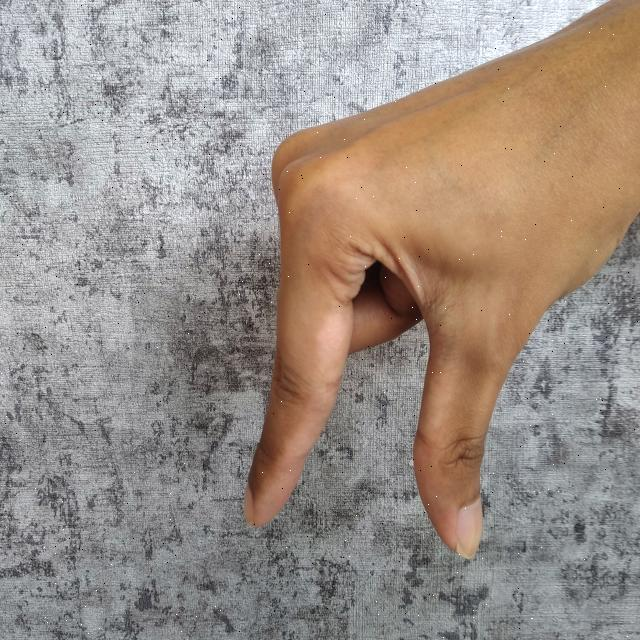Q: (238, 0, 640, 572)
